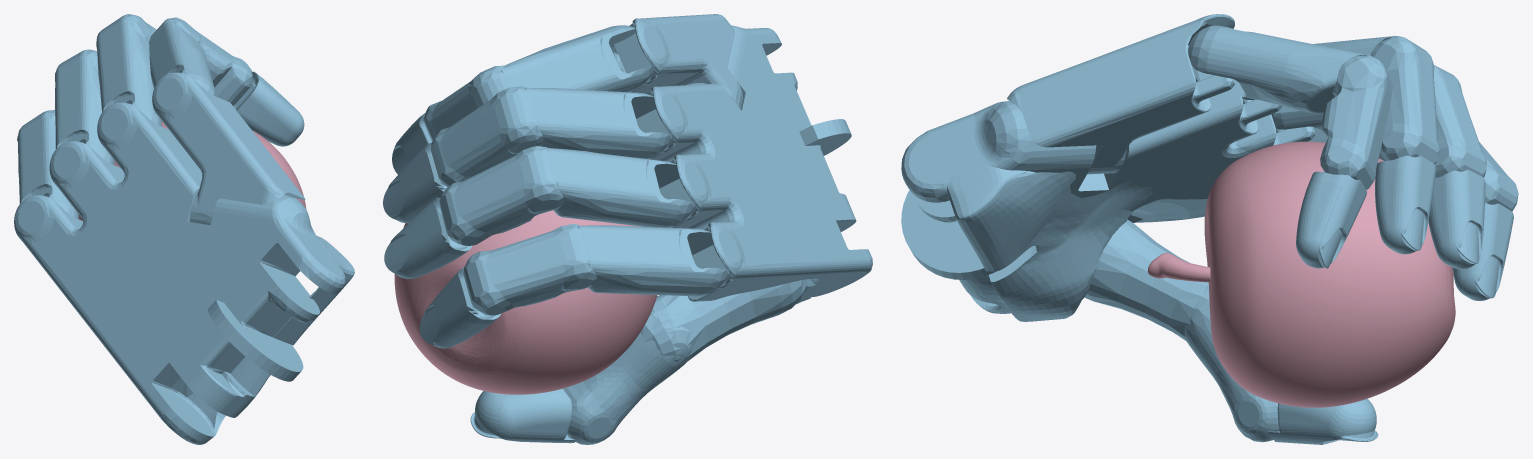
3 renders of one model, left to right at view 1: azimuth 30°, elevation 25°; view 2: azimuth 150°, elevation 25°; view 3: azimuth 270°, elevation 25°, orthographic. The views are drawn at different scales.
Parts seen in each view (by area): view 1: world; view 2: world; view 3: world.
Part boxes in pixels (x1,y1,x2,y2): world: [14, 14, 354, 444]; world: [383, 14, 872, 444]; world: [901, 14, 1518, 444].
Size of the model in its own units: 0.1143 by 0.1307 by 0.1771.
